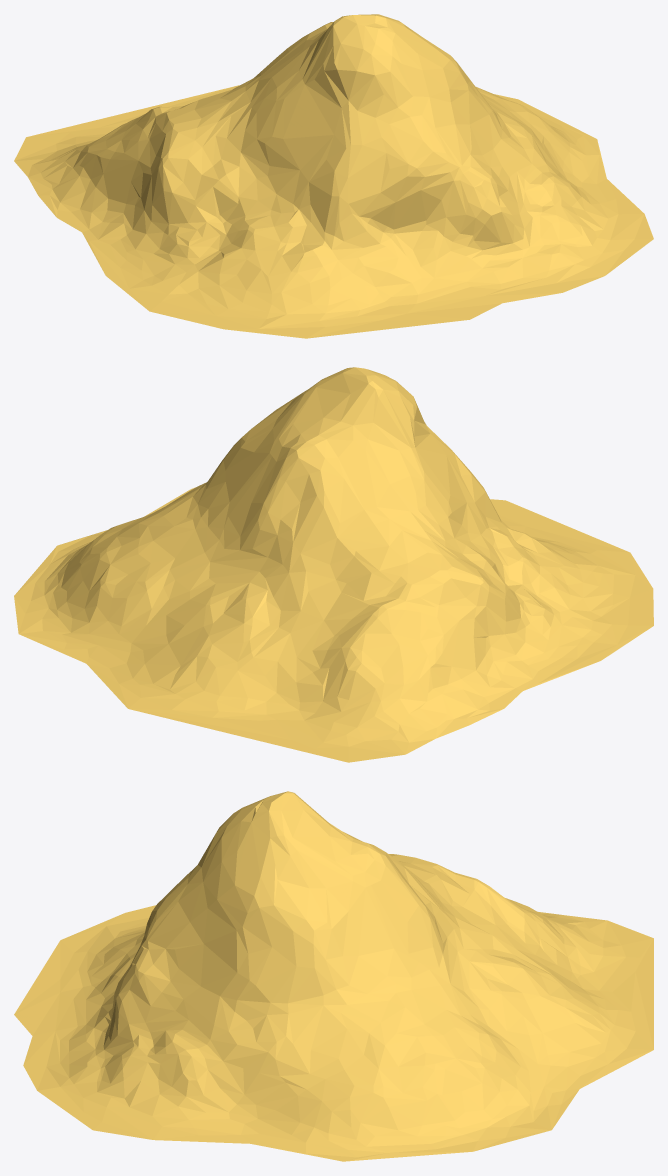
The model's file is Terrain 02.FBX.
3 views of the same model, one above another, from view 1: azimuth 30°, elevation 25°; view 2: azimuth 150°, elevation 25°; view 3: azimuth 270°, elevation 25° (orthographic). The views are drawn at different scales.
Visible parts, largest first — view 1: plane; view 2: plane; view 3: plane.
Part boxes in pixels (<box>): plane: <box>14,14,653,338</box>; plane: <box>14,367,653,762</box>; plane: <box>14,791,653,1161</box>.
Size of the model in its own units: 101 by 39.69 by 102.
